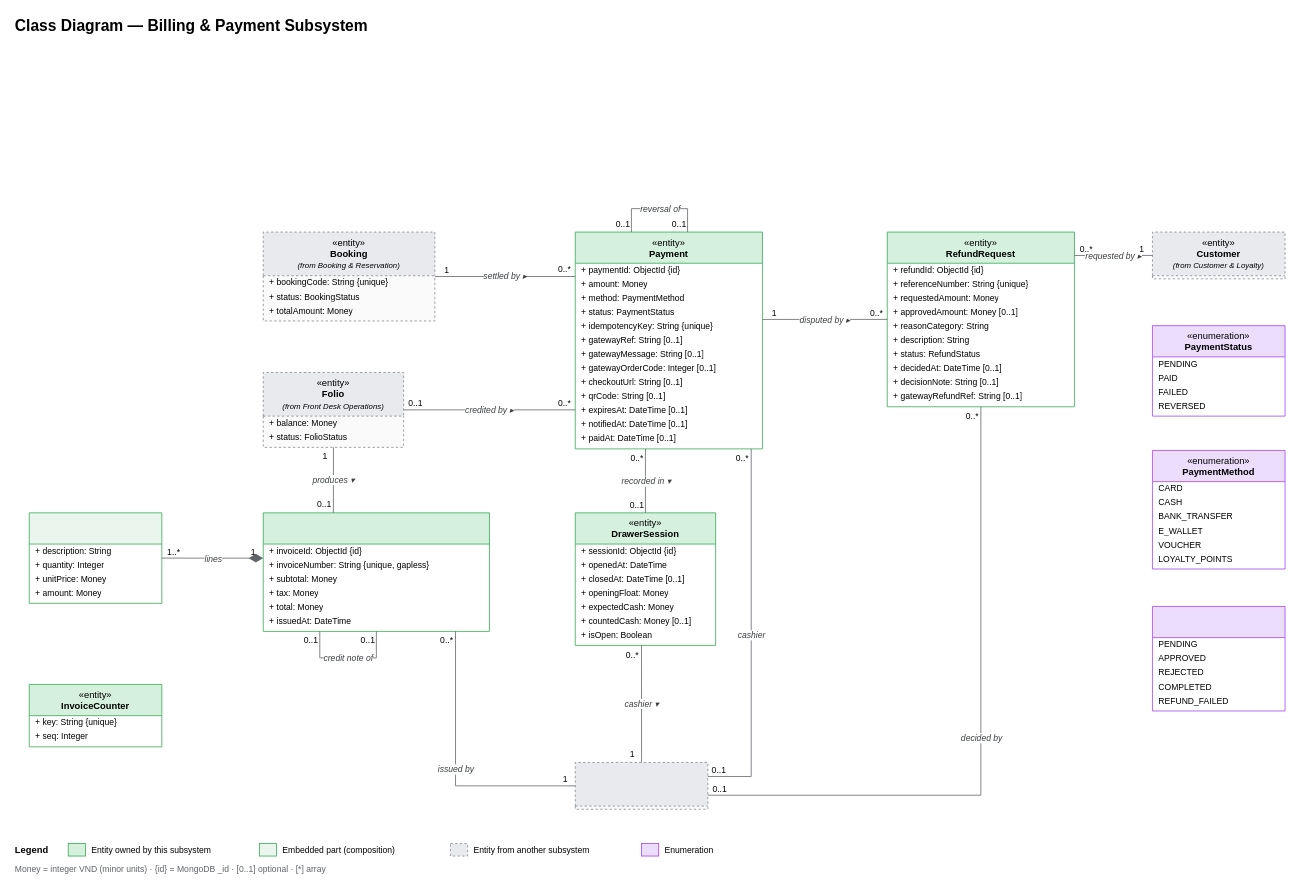
Some shapes in this 1299 by 891 pixel diagram are drawn without their labels. The shapes that lost their labels are listed below. From the top down, each one's box as (x1, y1, x2, y2) in pixels, then its label:
(28, 512, 162, 603): «entity» InvoiceLine
(262, 512, 489, 631): «entity» Invoice
(1152, 606, 1285, 711): «enumeration» RefundStatus
(574, 762, 708, 809): «entity» Employee (from HR & Payroll)
